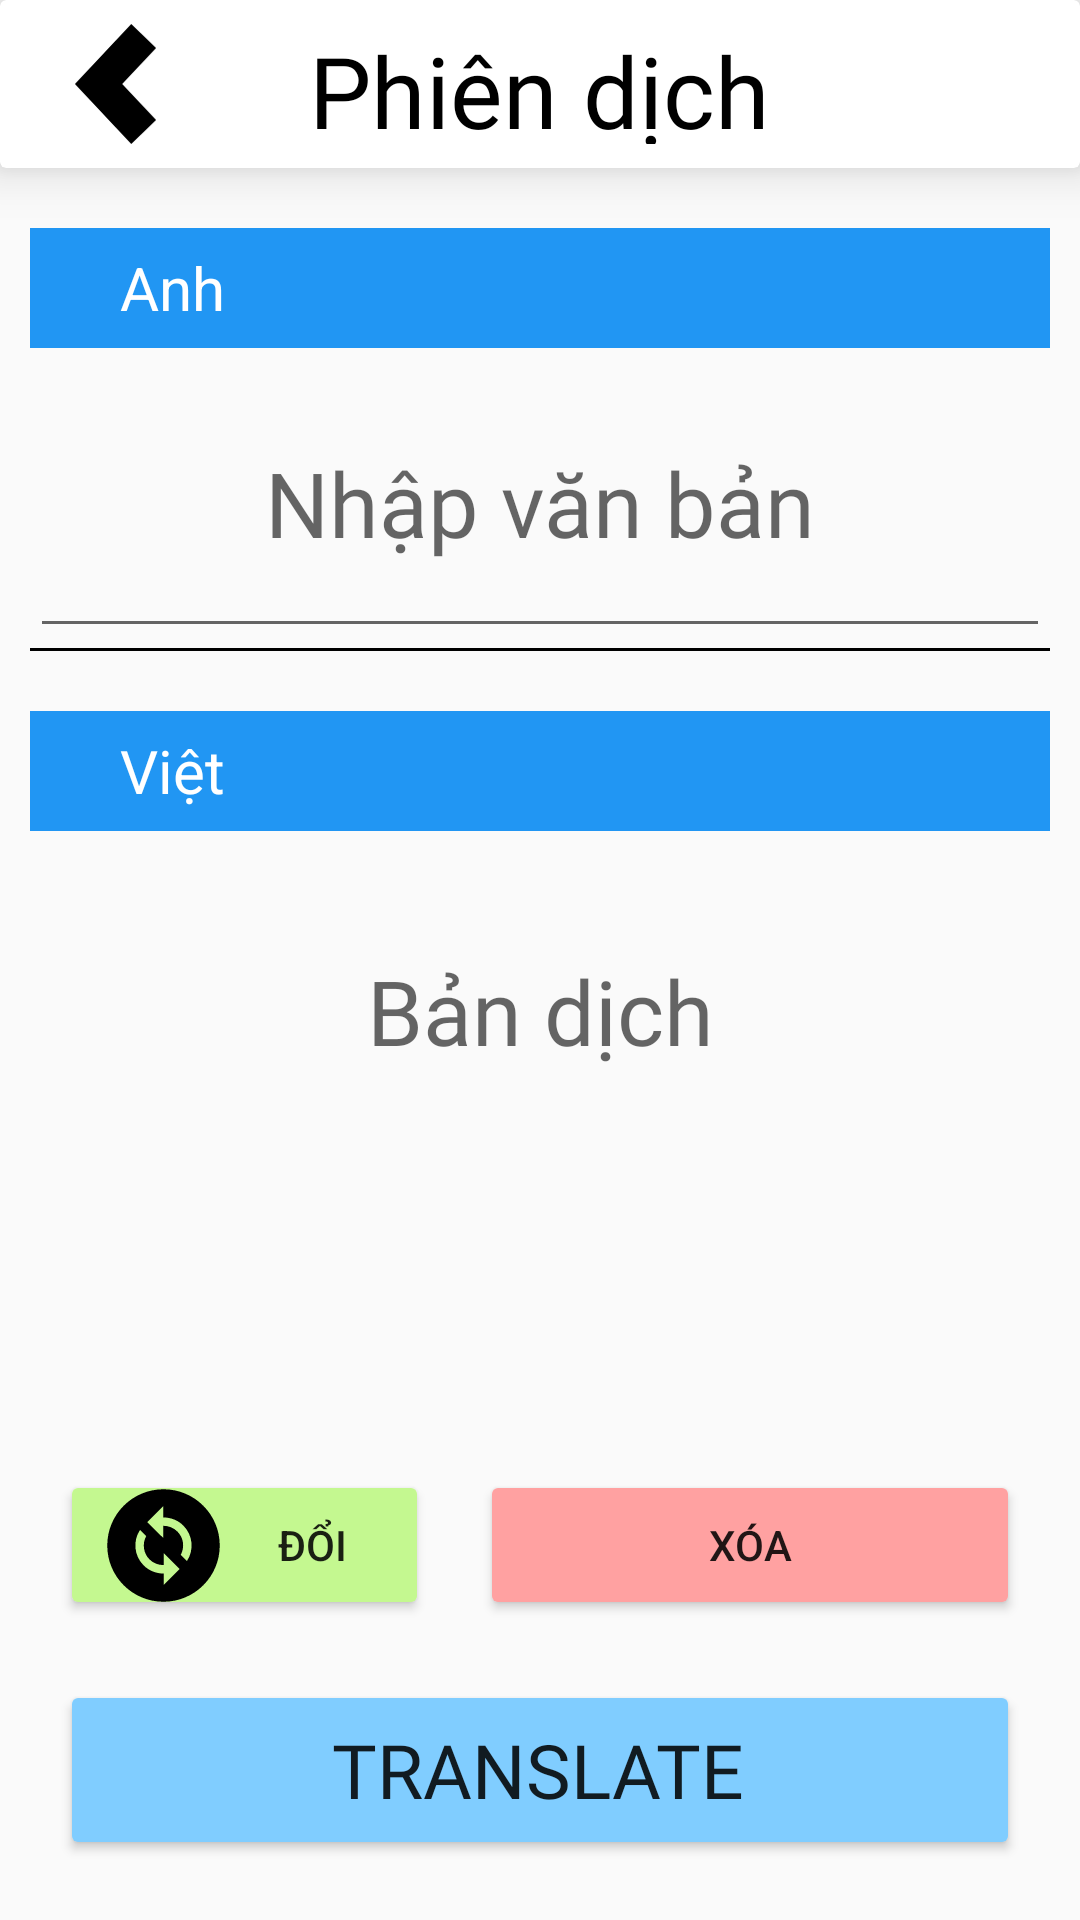

Screen size 1080w x 1920h. Icon name, then its box in pixels as BBox(x1, y1, x2, y2):
back: BBox(75, 24, 156, 144)
